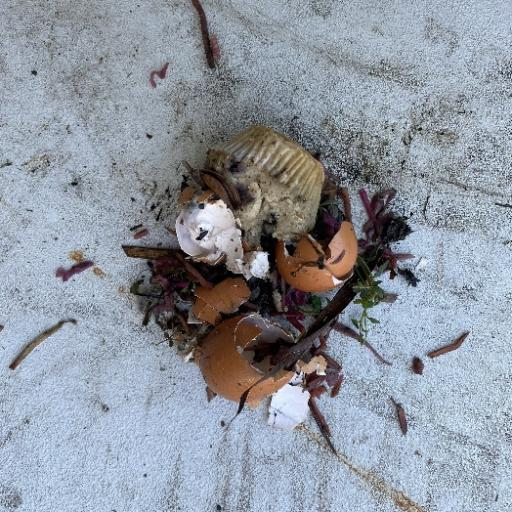Waste: (120, 122, 415, 436)
